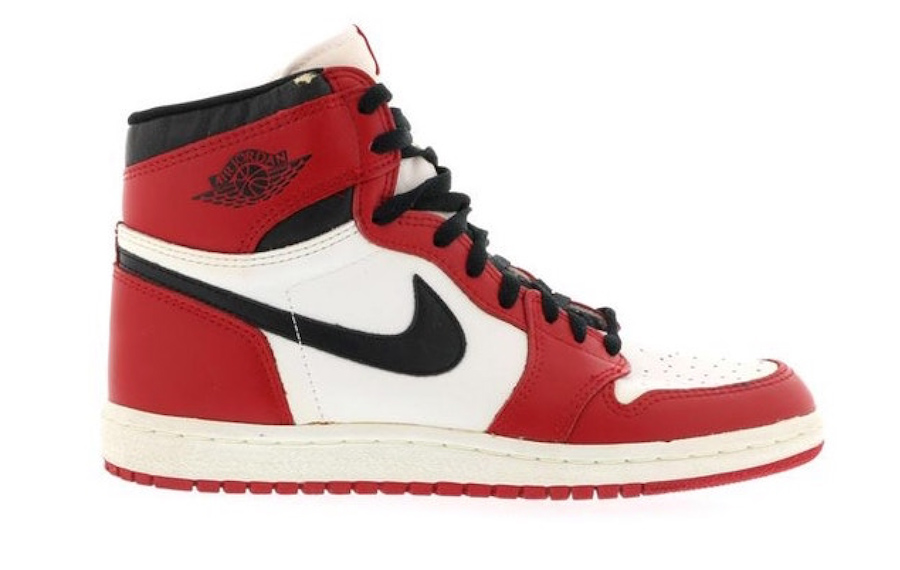Jordan 1: (98, 22, 830, 510)
